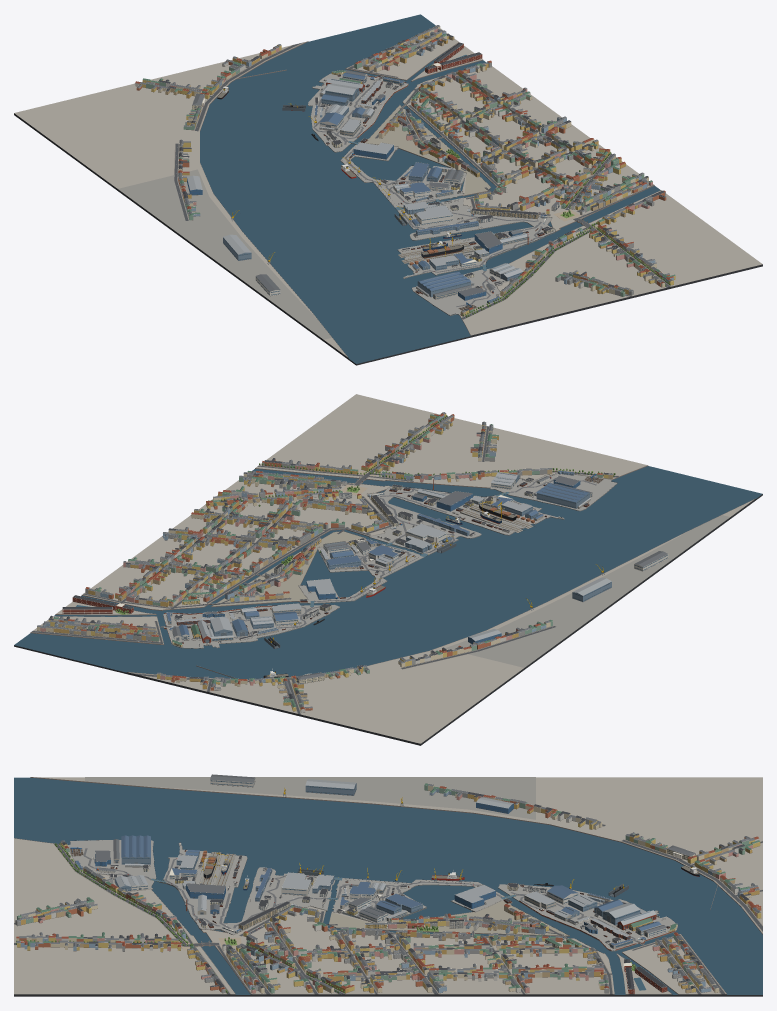
The model's file is admiralty-shipyards.glb.
3 renders of one model, top to bottom at view 1: azimuth 30°, elevation 25°; view 2: azimuth 150°, elevation 25°; view 3: azimuth 270°, elevation 25°, orthographic. The views are drawn at different scales.
Visible parts, largest first — view 1: ground Суша и акватория, areas Площади, скверы, площадки, roads Улицы, тротуары, внутризаводские проезды, parapets Гранитные парапеты набережных, trees Деревья, Z3 Главный корпус Галерного острова; view 2: ground Суша и акватория, areas Площади, скверы, площадки, roads Улицы, тротуары, внутризаводские проезды, parapets Гранитные парапеты набережных, Z3 Главный корпус Галерного острова, trees Деревья; view 3: ground Суша и акватория, areas Площади, скверы, площадки, roads Улицы, тротуары, внутризаводские проезды, parapets Гранитные парапеты набережных, trees Деревья, Z3 Главный корпус Галерного острова, BZ1 Балтийский завод — эллинг, Z68 Корпус у устья Мойки, Z58 Сборочно-сварочный цех, Z129 Корпусосборочный цех (предстапельная сборка), Z126 Крытый эллинг (бывш. завод «Судомех»), BZ2 Балтийский завод — цех (+3 smaller).
Part boxes in pixels (box(x1,y1,x2,y2)): ground Суша и акватория: box(14, 14, 762, 365); areas Площади, скверы, площадки: box(118, 55, 598, 339); roads Улицы, тротуары, внутризаводские проезды: box(134, 42, 670, 319); parapets Гранитные парапеты набережных: box(200, 26, 661, 357); trees Деревья: box(429, 65, 670, 317); Z3 Главный корпус Галерного острова: box(417, 271, 470, 297); ground Суша и акватория: box(14, 394, 762, 745); areas Площади, скверы, площадки: box(76, 471, 729, 667); roads Улицы, тротуары, внутризаводские проезды: box(31, 416, 618, 714); parapets Гранитные парапеты набережных: box(30, 465, 755, 679); Z3 Главный корпус Галерного острова: box(536, 483, 589, 508); trees Деревья: box(115, 415, 615, 613); ground Суша и акватория: box(14, 777, 762, 996); areas Площади, скверы, площадки: box(70, 777, 646, 990); roads Улицы, тротуары, внутризаводские проезды: box(14, 824, 762, 994); parapets Гранитные парапеты набережных: box(15, 777, 762, 993); trees Деревья: box(16, 843, 635, 993); Z3 Главный корпус Галерного острова: box(121, 835, 150, 864); BZ1 Балтийский завод — эллинг: box(305, 779, 356, 795); Z68 Корпус у устья Мойки: box(454, 884, 495, 908); Z58 Сборочно-сварочный цех: box(281, 872, 311, 896); Z129 Корпусосборочный цех (предстапельная сборка): box(186, 883, 225, 899); Z126 Крытый эллинг (бывш. завод «Судомех»): box(602, 903, 640, 925); BZ2 Балтийский завод — цех: box(210, 774, 255, 787).
Bounding box in the file's own units: 1882 × 68.46 × 2741.
